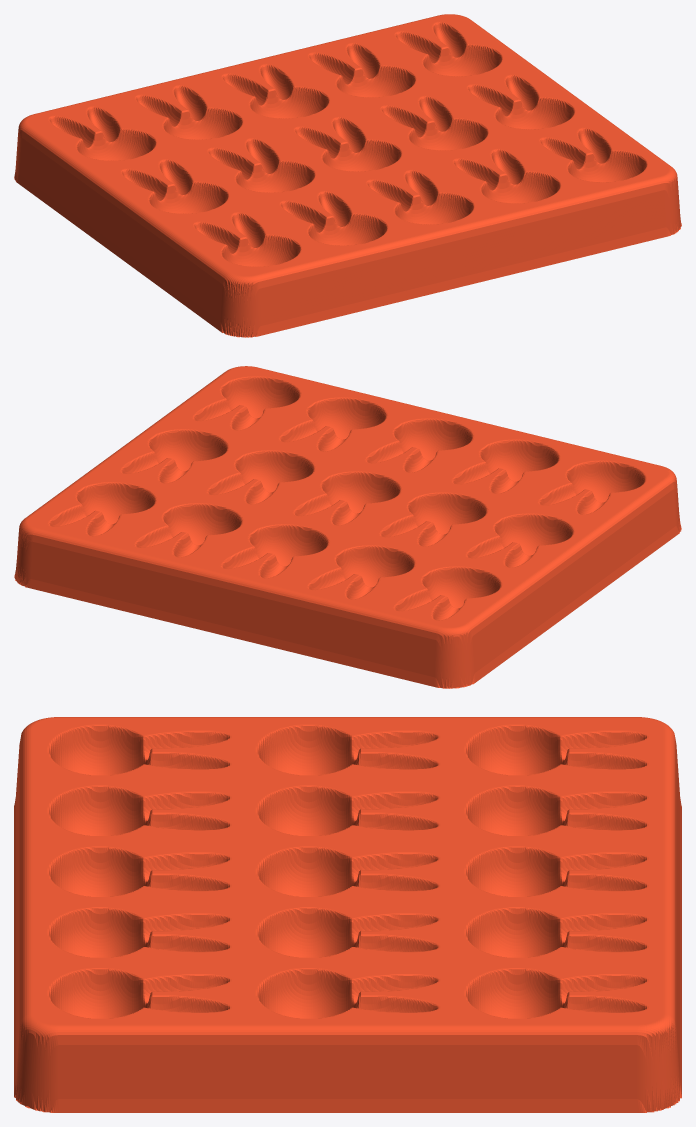
File: mold.glb
3 renders of one model, top to bottom at view 1: azimuth 30°, elevation 25°; view 2: azimuth 150°, elevation 25°; view 3: azimuth 270°, elevation 25°, orthographic. The views are drawn at different scales.
Parts seen in each view (by area): view 1: geometry_0; view 2: geometry_0; view 3: geometry_0.
Part boxes in pixels (x1,y1,x2,y2): geometry_0: (14, 14, 681, 337); geometry_0: (14, 366, 681, 688); geometry_0: (14, 717, 681, 1112).
Size of the model in its own units: 0.1562 by 0.0182 by 0.1369.
